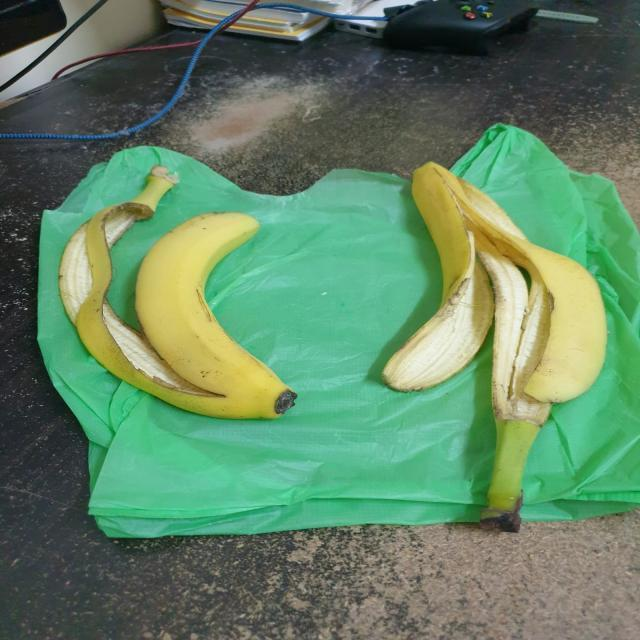banana-peel: (380, 159, 608, 531), (57, 163, 297, 421)
